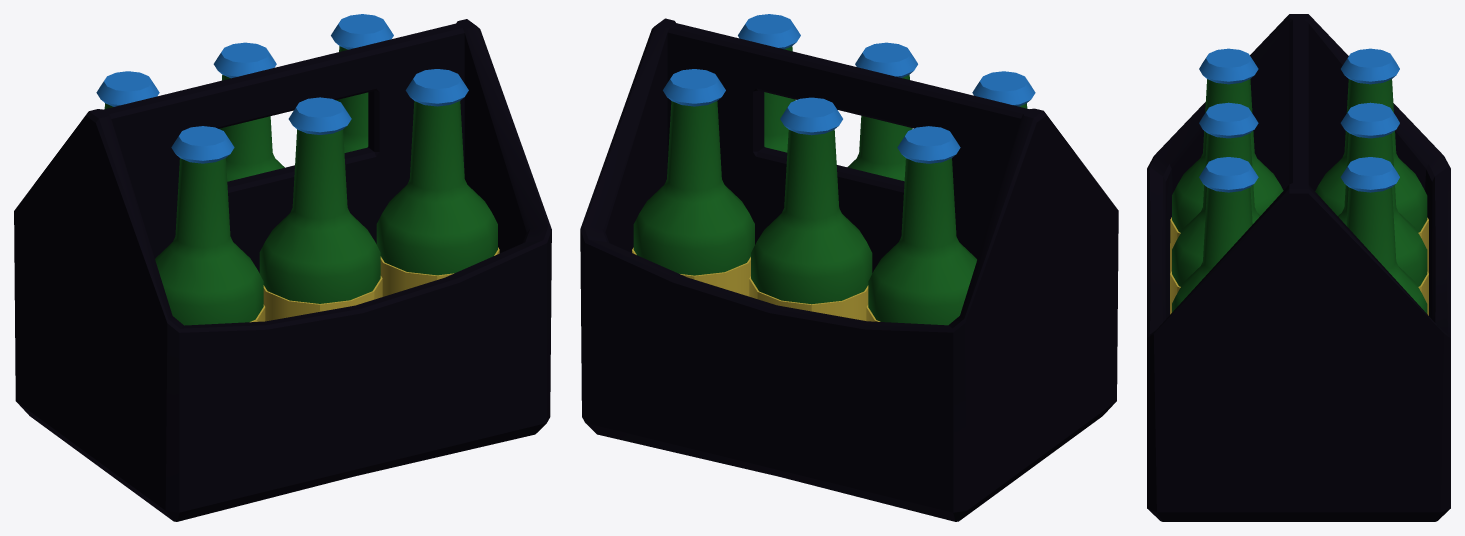
File: Crate of beer.FBX
3 renders of one model, left to right at view 1: azimuth 30°, elevation 25°; view 2: azimuth 150°, elevation 25°; view 3: azimuth 270°, elevation 25°, orthographic. The views are drawn at different scales.
Visible parts, largest first — view 1: Crate of beer; view 2: Crate of beer; view 3: Crate of beer.
Boxes of the visible parts, left/top/right/bottom form: Crate of beer: left=14, top=14, right=551, bottom=521; Crate of beer: left=580, top=14, right=1118, bottom=521; Crate of beer: left=1147, top=14, right=1450, bottom=521.
Size of the model in its own units: 988 by 714 by 874.
